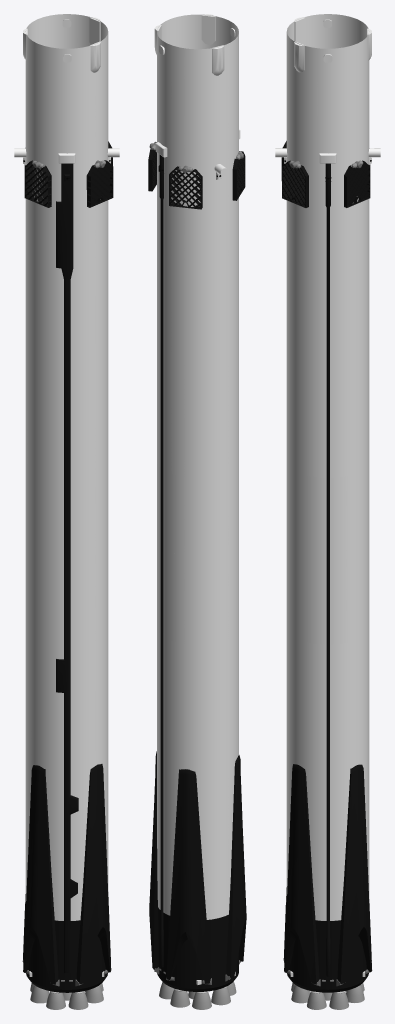
The model's file is FalconHeavyCoreStage.glb.
The picture shows the model from 3 angles, left to right: view 1: azimuth 90°, elevation 25°; view 2: azimuth 210°, elevation 25°; view 3: azimuth 270°, elevation 25°; orthographic projection.
Parts seen in each view (by area): view 1: First Stage Center_16, Landing Legs_8, Landing Legs.002_10, GridFin_3, GridFin.001_4; view 2: First Stage Center_16, Landing Legs.003_11, Landing Legs_8, Landing Legs.001_9, GridFin.004_6, GridFin_3, GridFin.002_5; view 3: First Stage Center_16, Landing Legs.001_9, Landing Legs.003_11, GridFin.002_5, GridFin.004_6.
Part boxes in pixels (x1,y1,x2,y2): First Stage Center_16: (14,14,119,1009); Landing Legs_8: (23,765,59,986); Landing Legs.002_10: (75,764,111,986); GridFin_3: (24,160,51,207); GridFin.001_4: (86,160,113,207); First Stage Center_16: (149,14,243,1009); Landing Legs.003_11: (166,769,211,984); Landing Legs_8: (225,755,246,981); Landing Legs.001_9: (149,751,159,974); GridFin.004_6: (169,166,202,209); GridFin_3: (232,151,245,200); GridFin.002_5: (148,142,156,191); First Stage Center_16: (275,14,380,1009); Landing Legs.001_9: (284,764,320,986); Landing Legs.003_11: (336,764,372,986); GridFin.002_5: (282,160,308,207); GridFin.004_6: (344,160,370,207).
Size of the model in its own units: 3.82 by 45.5 by 4.51.
Materials: 21 (3 with a texture image).
